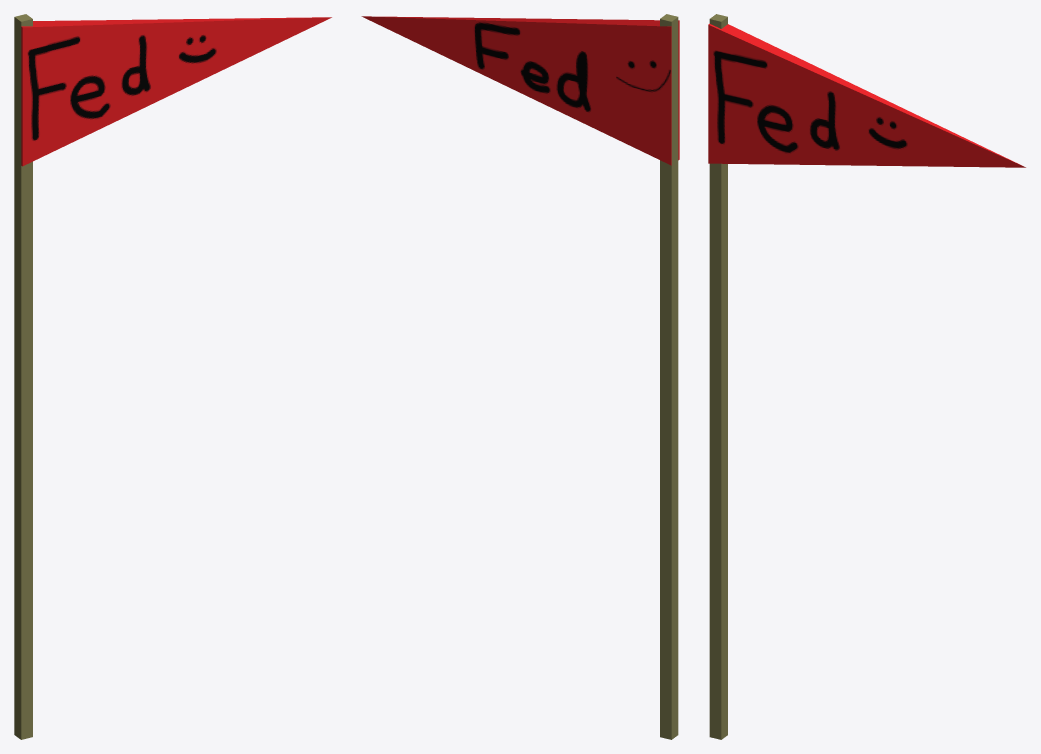
The model's file is fedFlag.fbx.
The picture shows the model from 3 angles, left to right: view 1: azimuth 30°, elevation 25°; view 2: azimuth 150°, elevation 25°; view 3: azimuth 330°, elevation 25°; orthographic projection.
Visible parts, largest first — view 1: root (×2); view 2: root (×2); view 3: root (×2).
Boxes of the visible parts, bbox=[...] form: root (×2): bbox=[14, 14, 331, 739]; root (×2): bbox=[361, 14, 679, 739]; root (×2): bbox=[708, 14, 1025, 739].
Bounding box in the file's own units: 0.2354 × 0.5139 × 0.0109.
2 materials, 1 textured.
